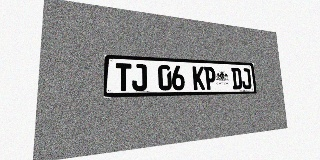0: (158, 65, 172, 90)
6: (171, 65, 185, 90)
D: (231, 68, 242, 89)
J: (132, 64, 147, 91), (241, 68, 252, 89)
K: (192, 66, 205, 90)
P: (204, 66, 216, 90)
T: (115, 63, 131, 91)
